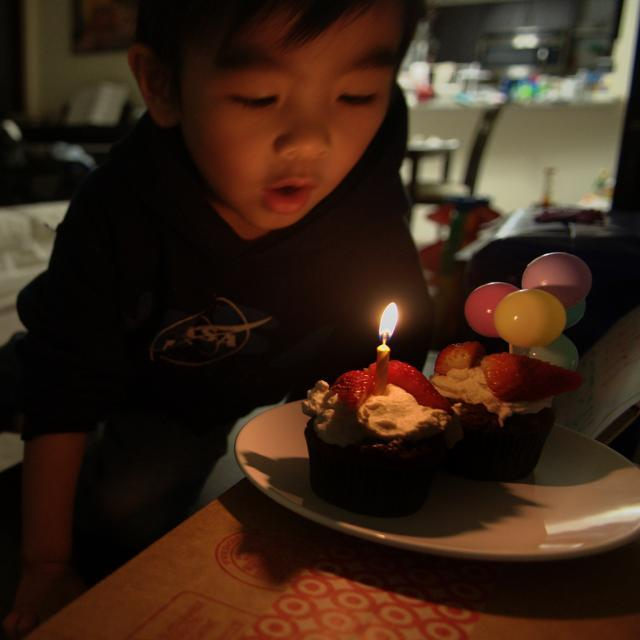Strawberry: (475, 348, 564, 406), (360, 359, 454, 409), (434, 339, 480, 379)
